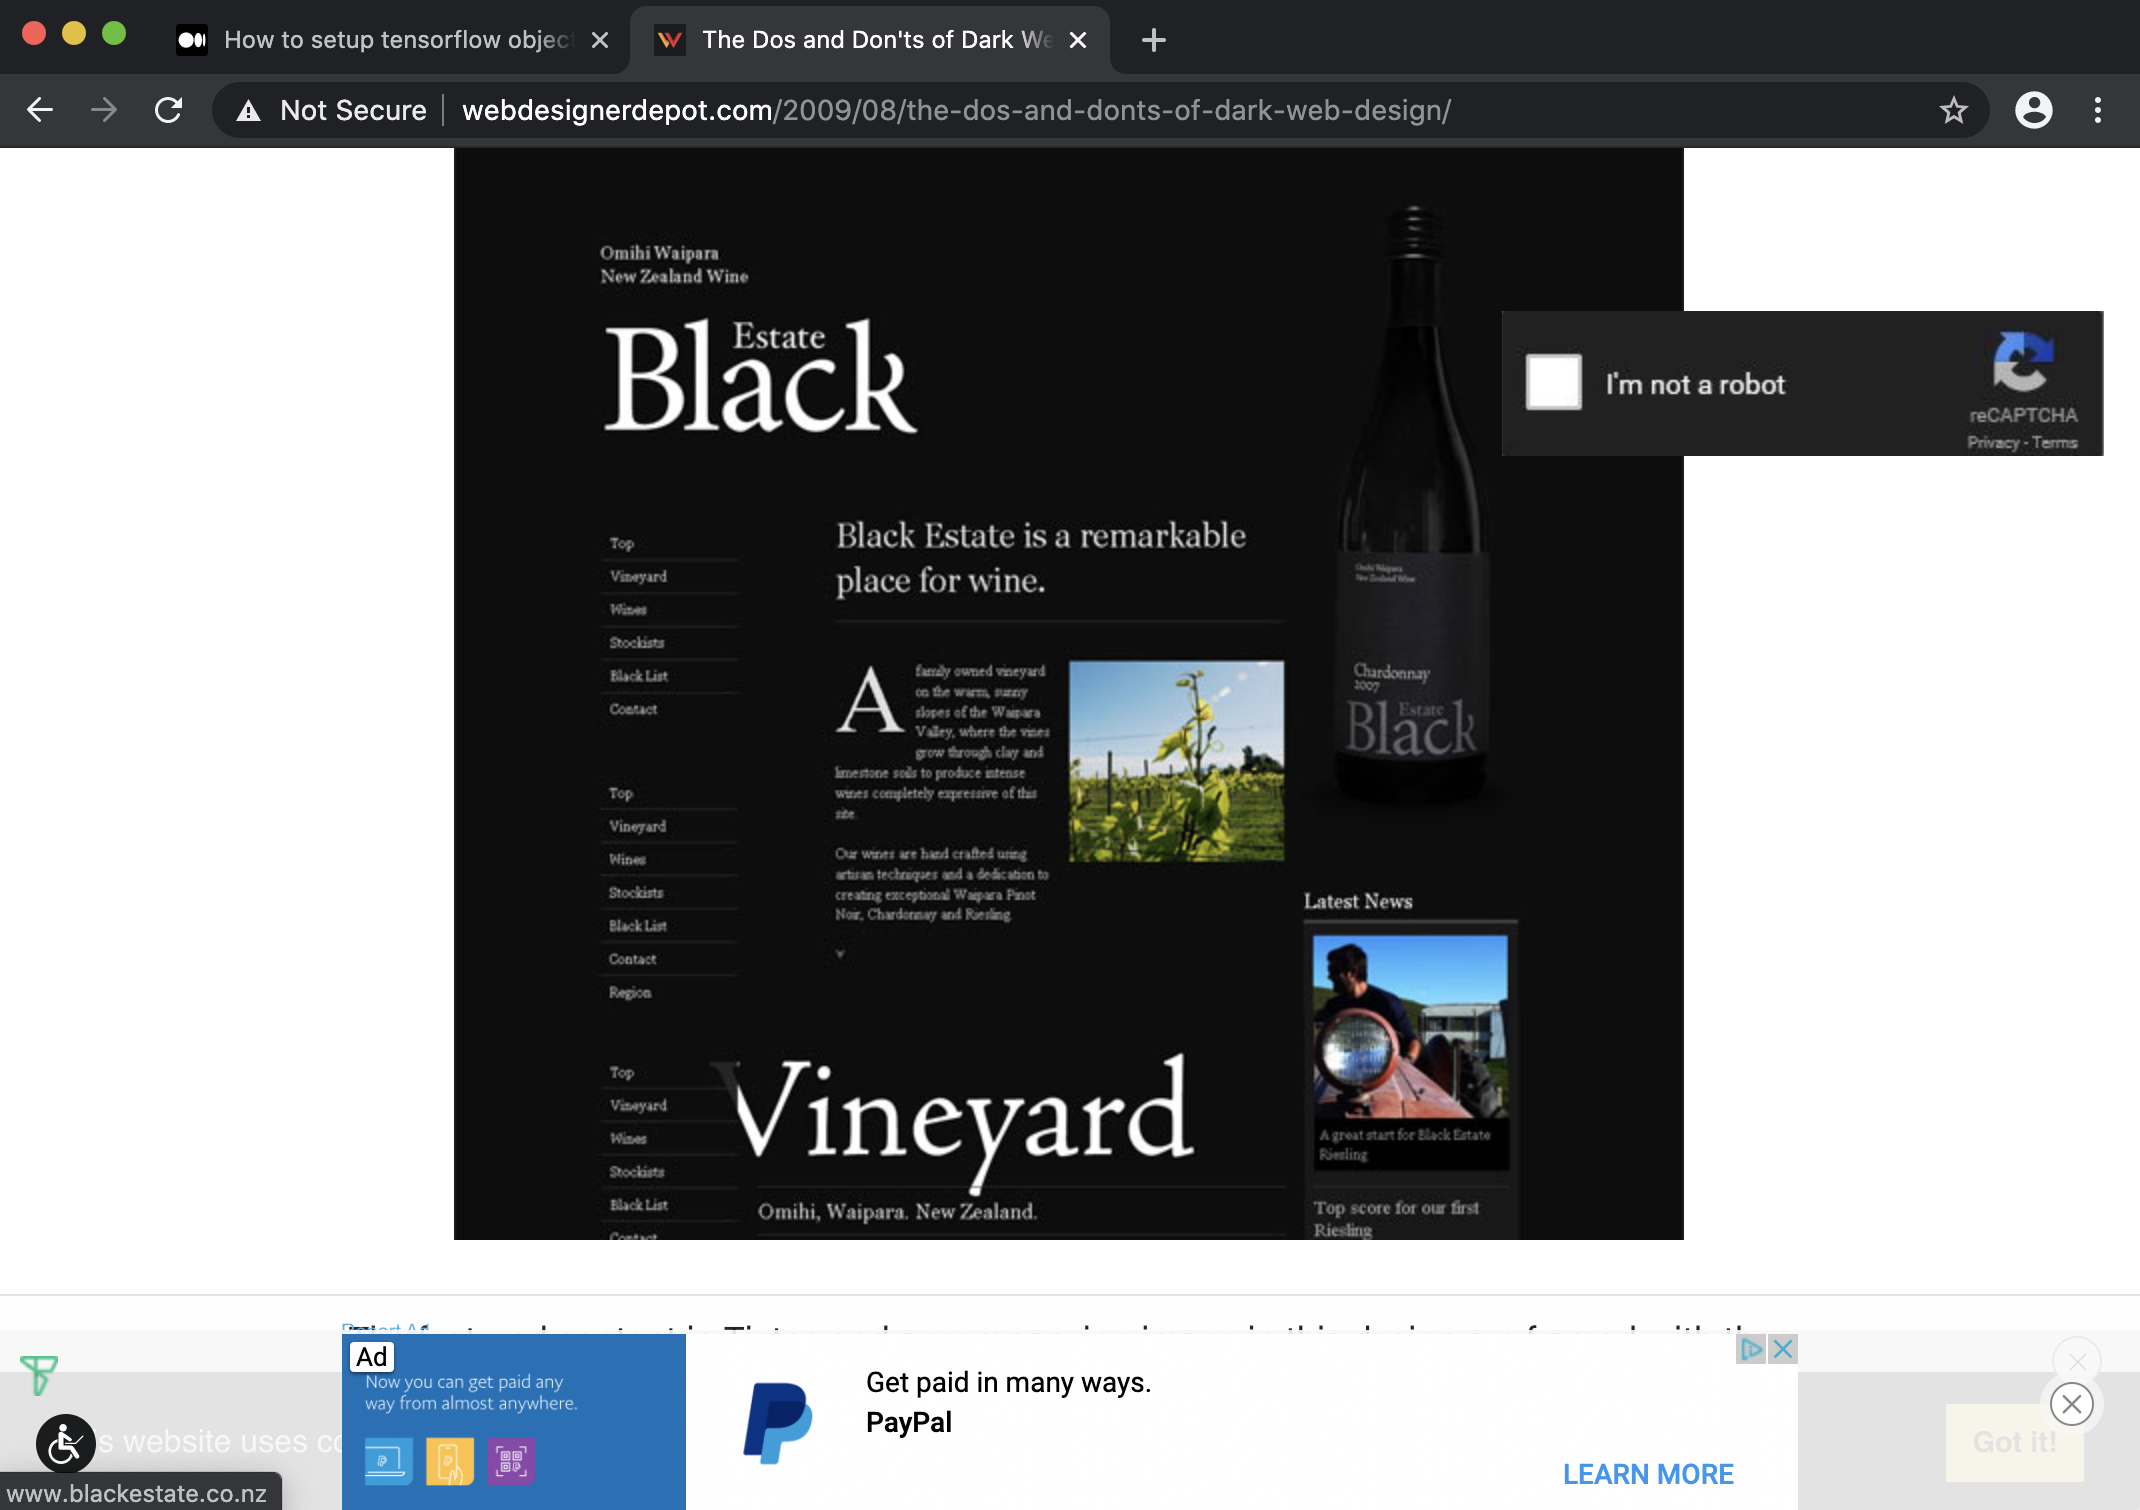captcha: (1495, 297, 2117, 484)
